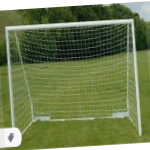goals: (3, 17, 146, 138)
